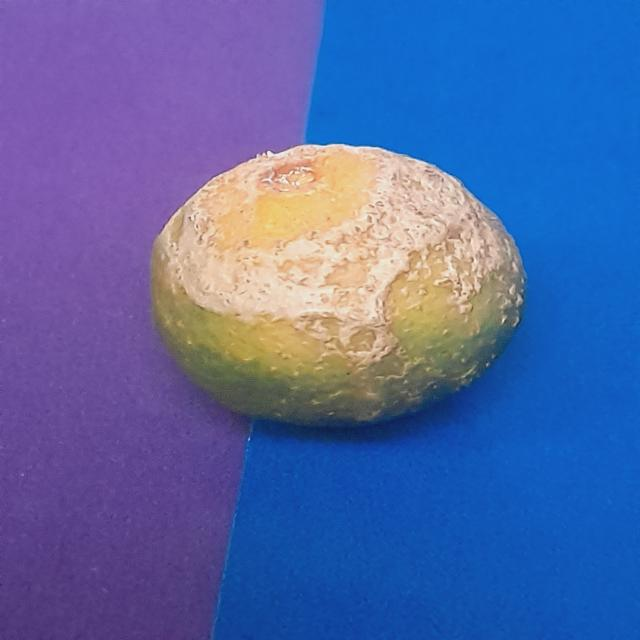thrips: (141, 138, 529, 419)
